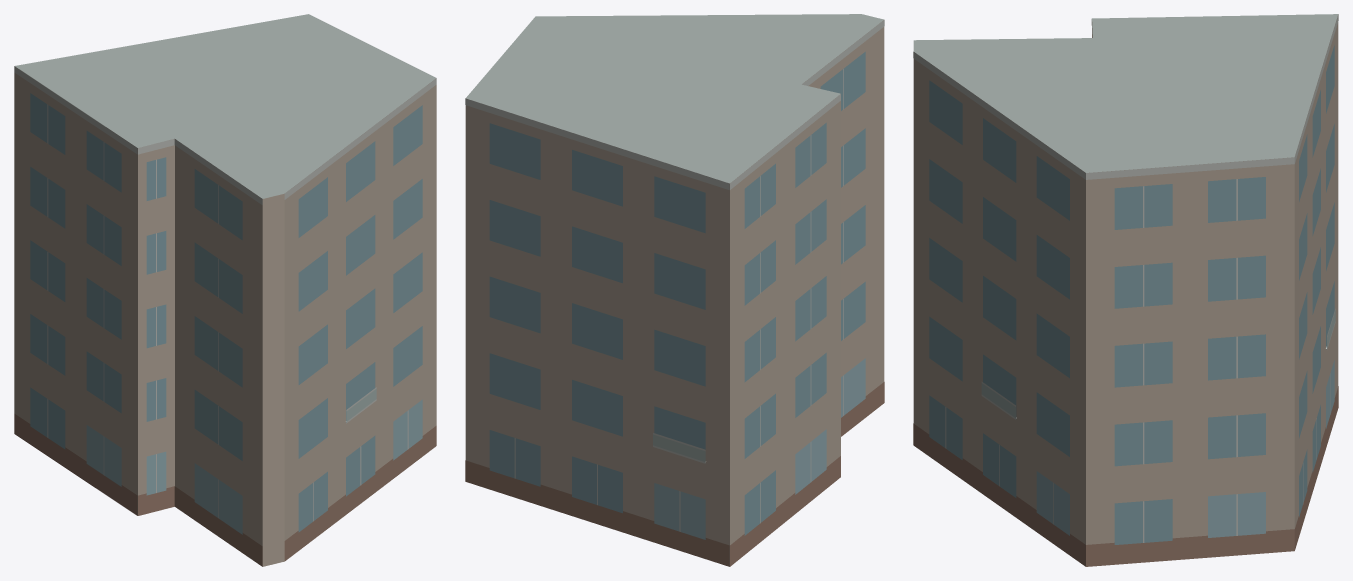
File: survey-upis-32871543.glb
3 renders of one model, left to right at view 1: azimuth 30°, elevation 25°; view 2: azimuth 150°, elevation 25°; view 3: azimuth 270°, elevation 25°, orthographic. The views are drawn at different scales.
Visible parts, largest first — view 1: survey-upis-32871543.tmp; view 2: survey-upis-32871543.tmp; view 3: survey-upis-32871543.tmp.
Part boxes in pixels (x1=…): survey-upis-32871543.tmp: x1=14, y1=14, x2=436, y2=566; survey-upis-32871543.tmp: x1=465, y1=14, x2=884, y2=566; survey-upis-32871543.tmp: x1=913, y1=14, x2=1338, y2=566.
Bounding box in the file's own units: 11.96 × 13.8 × 13.5.
